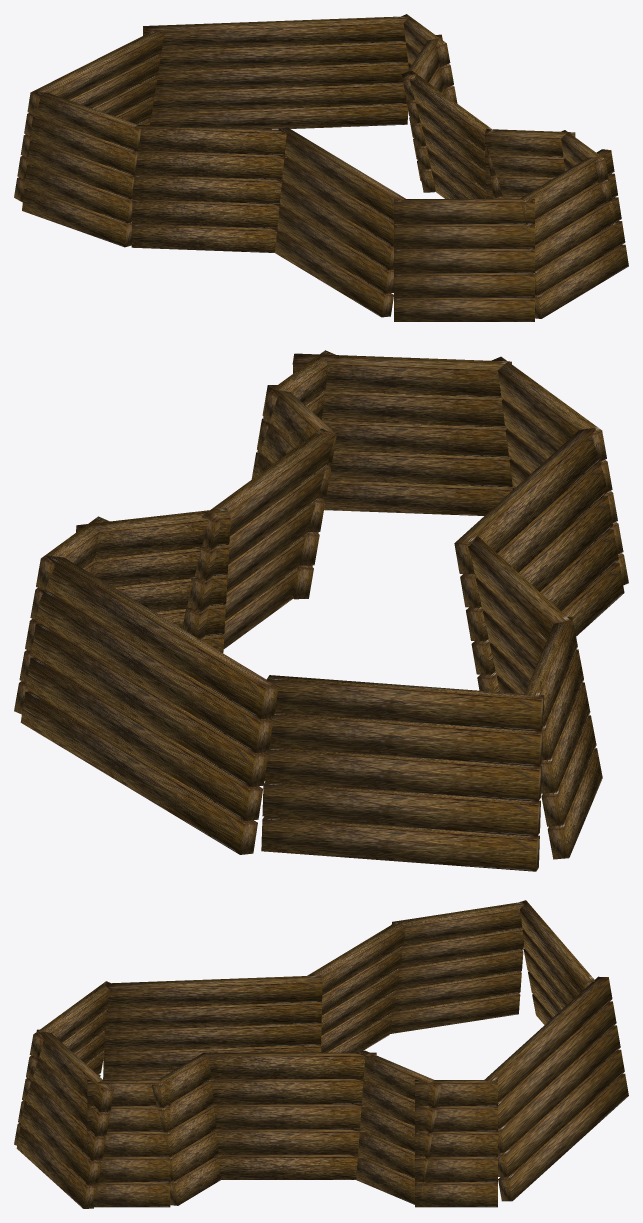
The model's file is WoodenBarrierPartTest06.obj.
The picture shows the model from 3 angles, top to bottom: view 1: azimuth 30°, elevation 25°; view 2: azimuth 150°, elevation 25°; view 3: azimuth 270°, elevation 25°; orthographic projection. The views are drawn at different scales.
Visible parts, largest first — view 1: Box002; view 2: Box002; view 3: Box002.
Boxes of the visible parts, x1,y1,x2,y2 form: Box002: (14, 14, 628, 321); Box002: (14, 350, 628, 871); Box002: (14, 900, 628, 1208).
Size of the model in its own units: 236 by 63.84 by 305.
